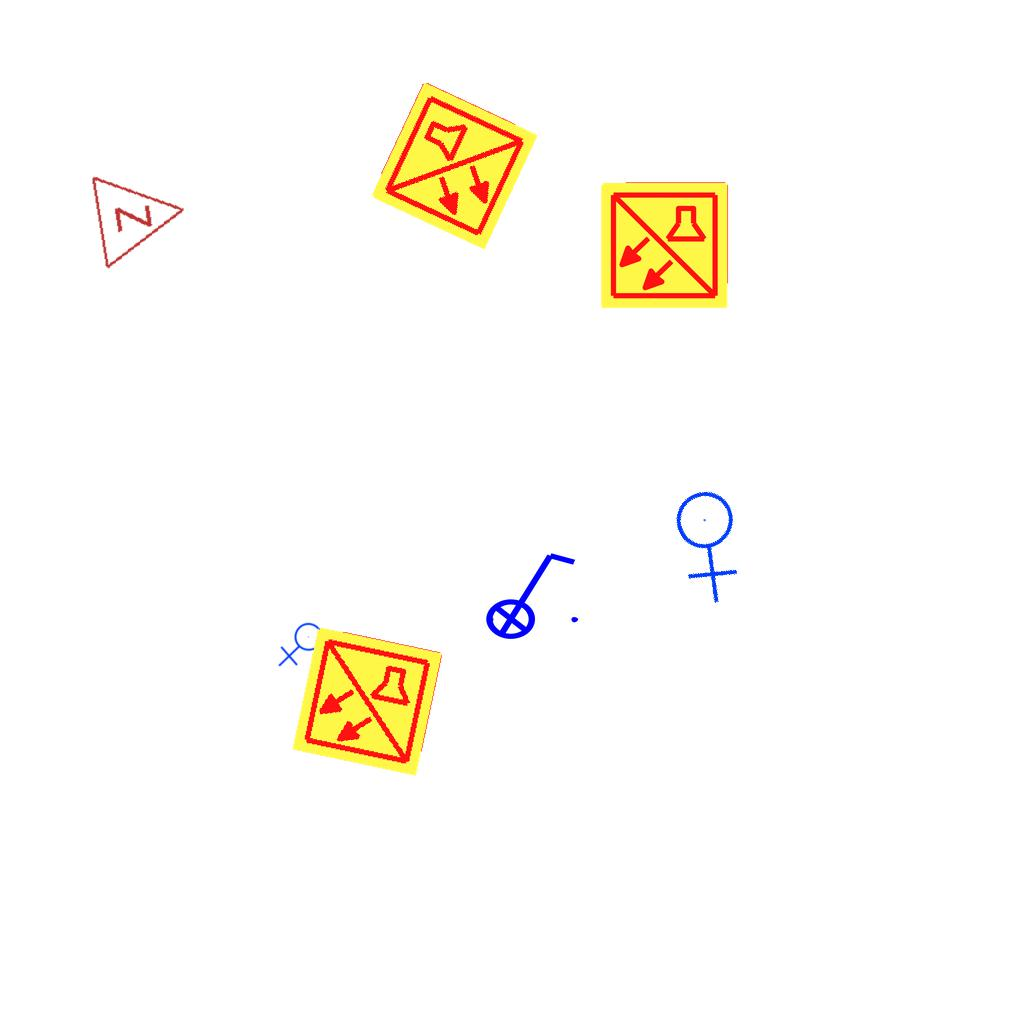Ausschalter_beleuchtet: (472, 545, 584, 641)
Elektroanschluss_allgemein_230V_Geraeteanschlussdose_230V: (644, 472, 779, 608), (278, 622, 327, 669)
OKW_Multisensormelder_(Kombination_optischer_Rauch-Kahlenmonoxid_Waerme-Melder): (366, 78, 542, 254), (288, 622, 446, 780), (598, 179, 730, 311)
Zimmersignalleuchte: (83, 158, 199, 272)
